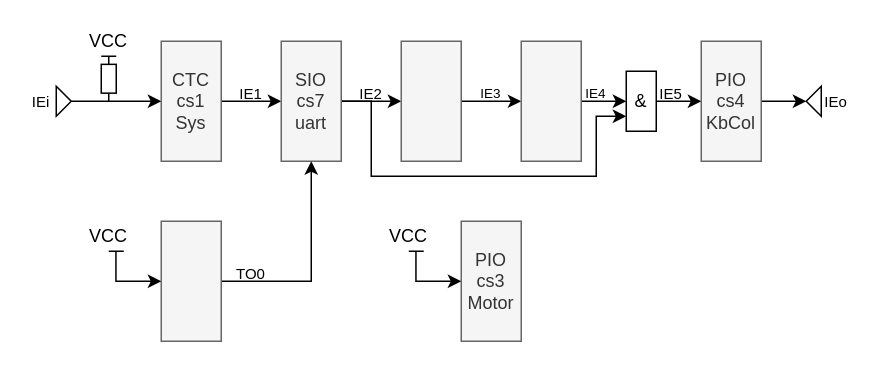
Image size: 876x368. Some labels were removed from this diagram. The shapes that lost their labels are listed below. From the top down, each one's centre as x and y in pixels, then its label:
At point (430, 100): "PIO cs5 KbRow".
At point (550, 100): "PIO cs2 Disp".
At point (190, 280): "CTC cs6 usart".
